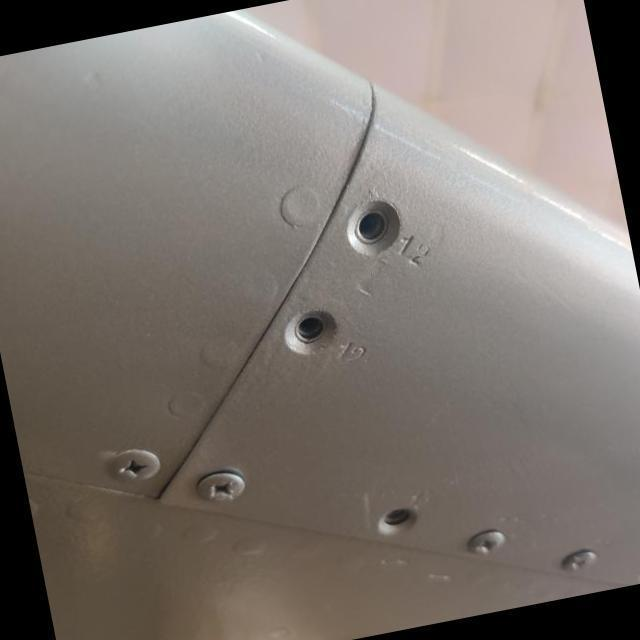Fastener Damage: (297, 154, 454, 306), (238, 255, 385, 399), (337, 457, 460, 578)
